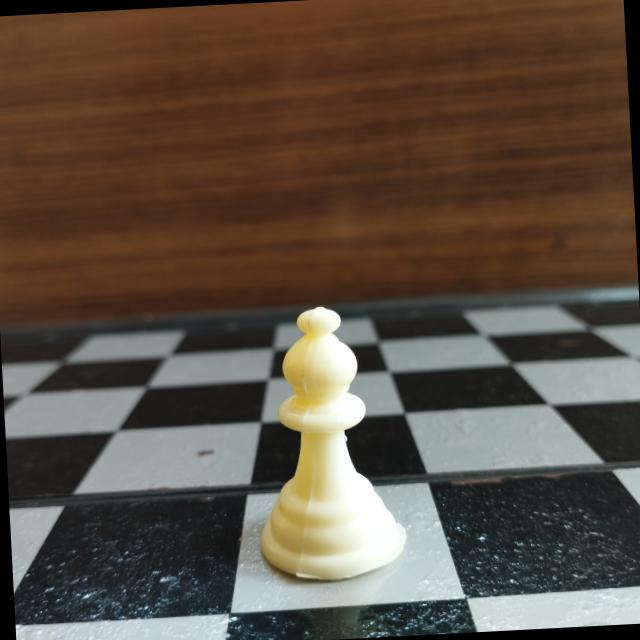White Bishop: (238, 293, 413, 592)
